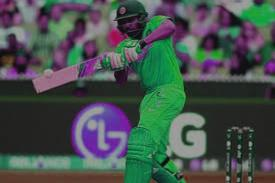batsman: (98, 0, 193, 183)
